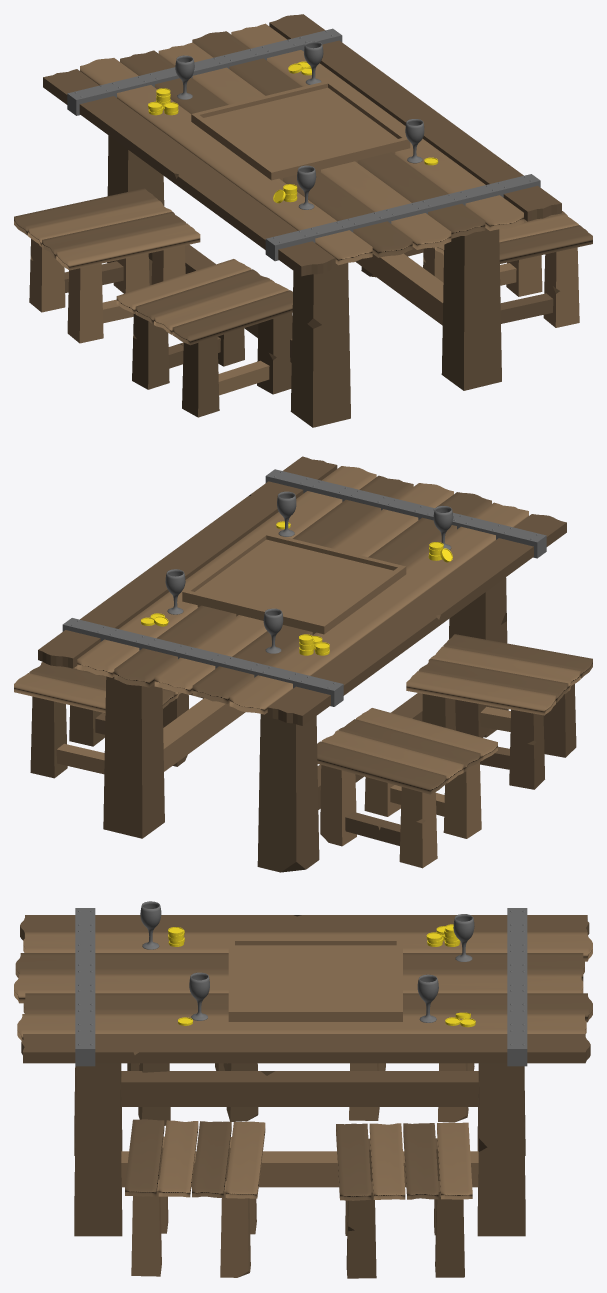
Rendered from nowall.glb.
3 renders of one model, top to bottom at view 1: azimuth 30°, elevation 25°; view 2: azimuth 150°, elevation 25°; view 3: azimuth 270°, elevation 25°, orthographic. The views are drawn at different scales.
Parts seen in each view (by area): view 1: Cube.045, Cube.102, Cube.036, Cube.042, Cube.062, Cube.037, Cube.076, Cube.041, Cube.040, Cube.039, Cube.038, Cube.055 (+21 smaller); view 2: Cube.045, Cube.102, Cube.036, Cube.042, Cube.037, Cube.076, Cube.062, Cube.041, Cube.040, Cube.039, Cube.038, Cube.048 (+20 smaller); view 3: Cube.045, Cube.042, Cube.102, Cube.046, Cube.036, Cube.041, Cube.038, Cube.037, Cube.040, Cube.039, Cube.055, Cube.048 (+17 smaller).
Boxes of the visible parts, x1,y1,x2,y2 form: Cube.045: [107, 135, 501, 427]; Cube.102: [191, 80, 410, 180]; Cube.036: [43, 69, 335, 276]; Cube.042: [269, 14, 561, 221]; Cube.062: [132, 313, 292, 417]; Cube.037: [80, 58, 372, 265]; Cube.076: [29, 239, 185, 343]; Cube.041: [231, 23, 523, 230]; Cube.040: [192, 31, 485, 238]; Cube.039: [158, 42, 451, 249]; Cube.038: [120, 50, 412, 257]; Cube.055: [423, 247, 579, 327]; Cube.045: [103, 577, 508, 872]; Cube.102: [182, 532, 406, 634]; Cube.036: [267, 514, 566, 725]; Cube.042: [38, 456, 337, 668]; Cube.037: [229, 502, 528, 714]; Cube.076: [320, 762, 481, 868]; Cube.062: [422, 684, 576, 789]; Cube.041: [77, 466, 376, 677]; Cube.040: [114, 475, 413, 687]; Cube.039: [154, 483, 453, 694]; Cube.038: [192, 492, 491, 704]; Cube.048: [30, 693, 188, 778]; Cube.045: [74, 1063, 525, 1236]; Cube.042: [21, 1034, 590, 1063]; Cube.102: [228, 938, 402, 1021]; Cube.046: [121, 1071, 478, 1106]; Cube.036: [20, 915, 589, 940]; Cube.041: [17, 1014, 586, 1040]; Cube.038: [15, 953, 584, 981]; Cube.037: [23, 932, 592, 961]; Cube.040: [23, 993, 592, 1022]; Cube.039: [14, 974, 583, 1003]; Cube.055: [131, 1136, 256, 1277]; Cube.048: [345, 1138, 464, 1278].
Size of what is drawn, in the model's own units: 2.8 by 1.42 by 3.03.
